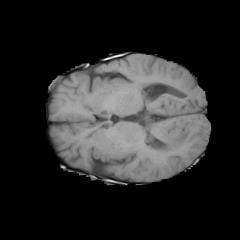glioma: (150, 127, 189, 152)
